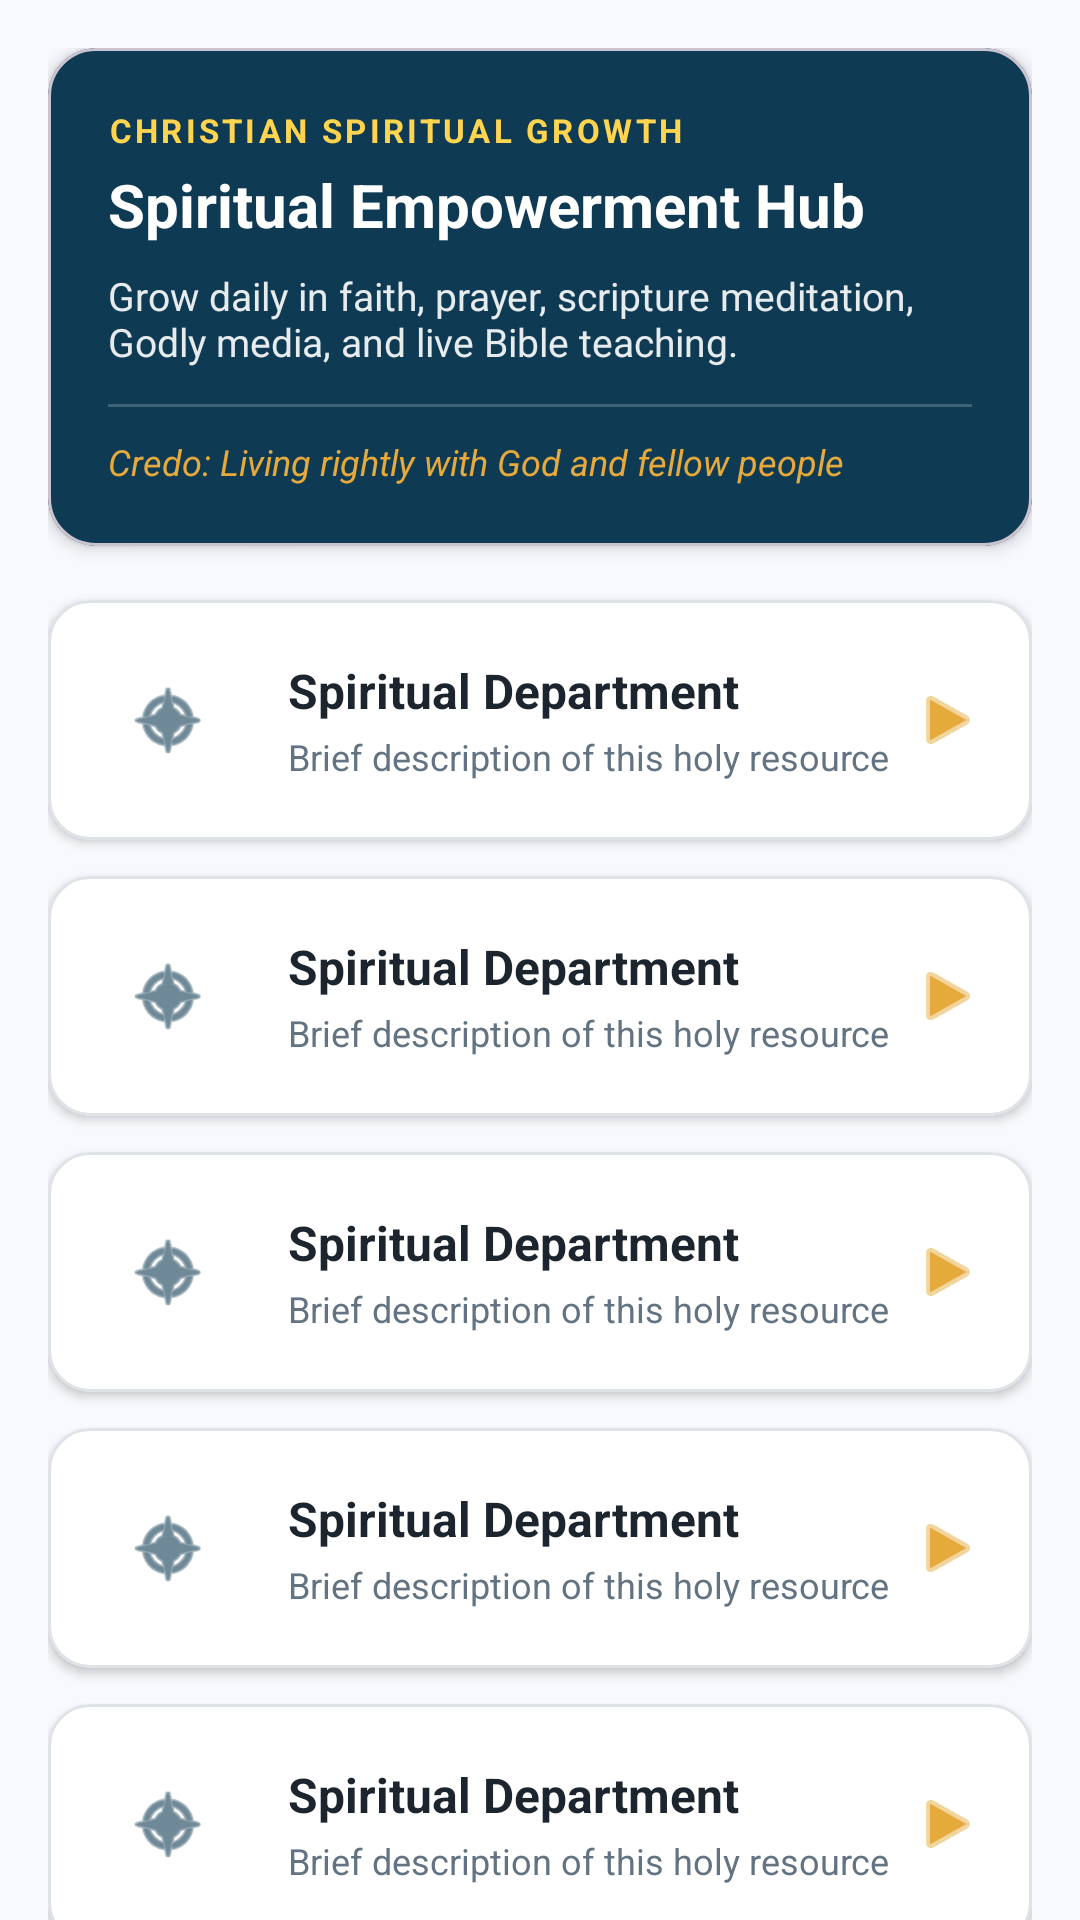

Where to tap for icons on this 1080x1920 app screen, as [x,y]:
compass: [167,720], [167,996], [167,1272], [167,1548], [167,1824]
play: [948,720], [948,996], [948,1272], [948,1548], [948,1824]
